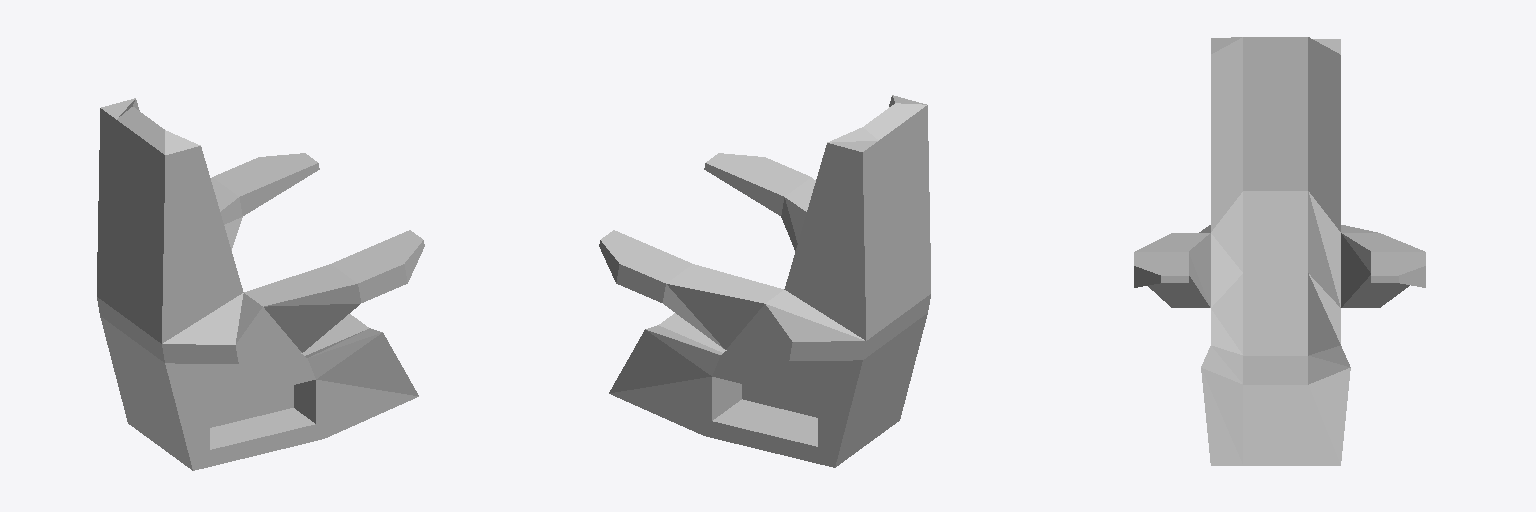
File: control_seat.obj
The picture shows the model from 3 angles: view 1: azimuth 30°, elevation 25°; view 2: azimuth 150°, elevation 25°; view 3: azimuth 270°, elevation 25°; orthographic projection.
Visible parts, largest first — view 1: Cube.009_Cube.001; view 2: Cube.009_Cube.001; view 3: Cube.009_Cube.001.
Part boxes in pixels (bbox=[...]): Cube.009_Cube.001: bbox=[97, 98, 424, 470]; Cube.009_Cube.001: bbox=[599, 95, 930, 467]; Cube.009_Cube.001: bbox=[1134, 37, 1425, 465].
Size of the model in its own units: 1.32 by 1.62 by 1.29.